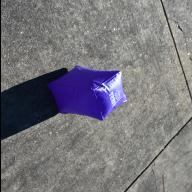cube: (45, 65, 127, 121)
